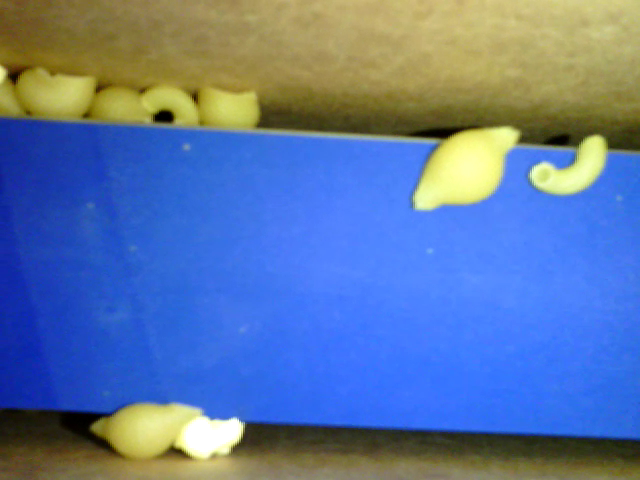elbow: (525, 135, 608, 199), (142, 84, 199, 125)
shell: (412, 123, 524, 212), (89, 401, 203, 462), (13, 66, 98, 124), (195, 80, 260, 130), (88, 87, 155, 124)
